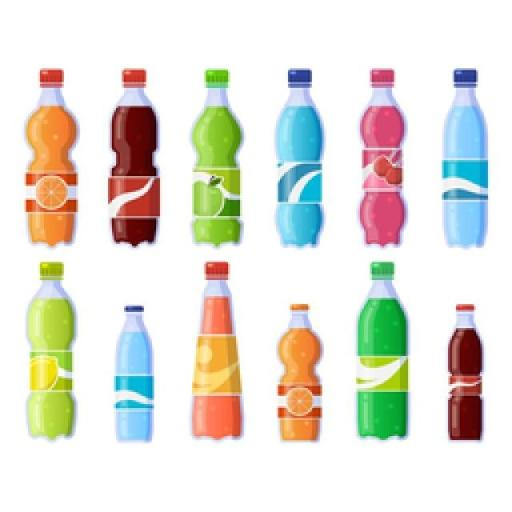plastic: (22, 66, 78, 246), (106, 68, 160, 246), (354, 260, 408, 438), (272, 66, 324, 246), (190, 68, 242, 246), (190, 260, 242, 438), (24, 260, 76, 438), (440, 66, 488, 246), (358, 66, 406, 246), (276, 302, 322, 440), (112, 304, 154, 442), (446, 302, 482, 440)
